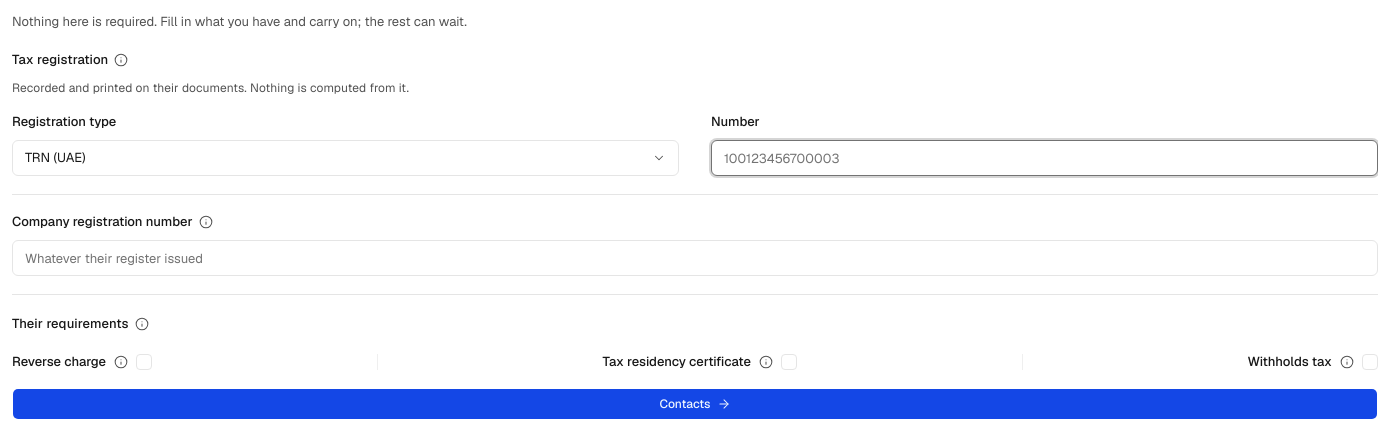
Test: the foreign branch › offers this country’s registration type, and the honest fallback
Click the dropdown labelled "Registration type": (332, 158) [13,148,652,168]
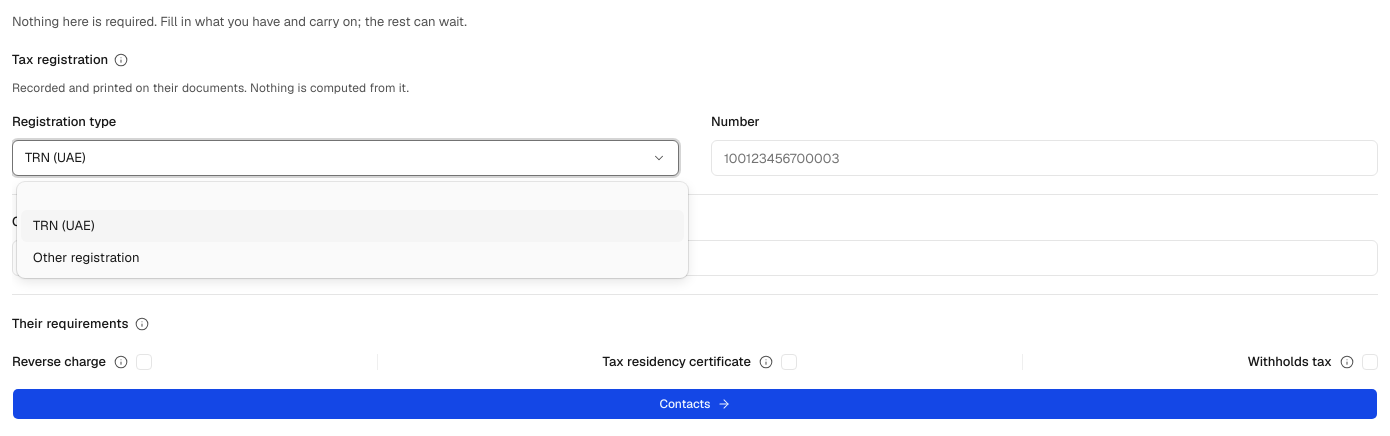
Expected: the option "TRN (UAE)" is shown, [21,210,684,242]
Expected: the option "Other registration" is shown, [33,249,140,266]
